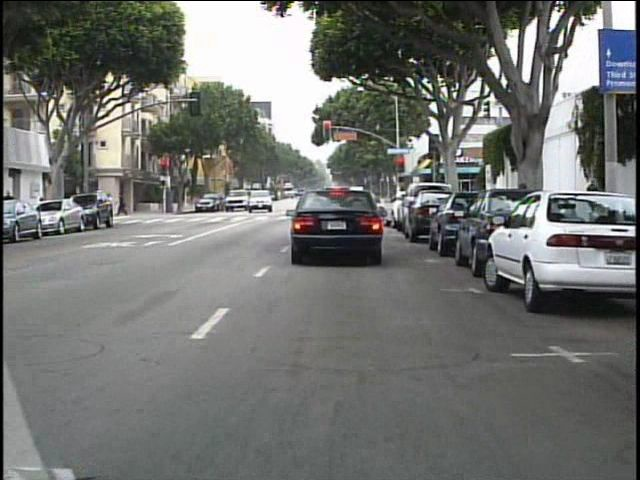person: (5, 186, 21, 232), (119, 189, 130, 219)
